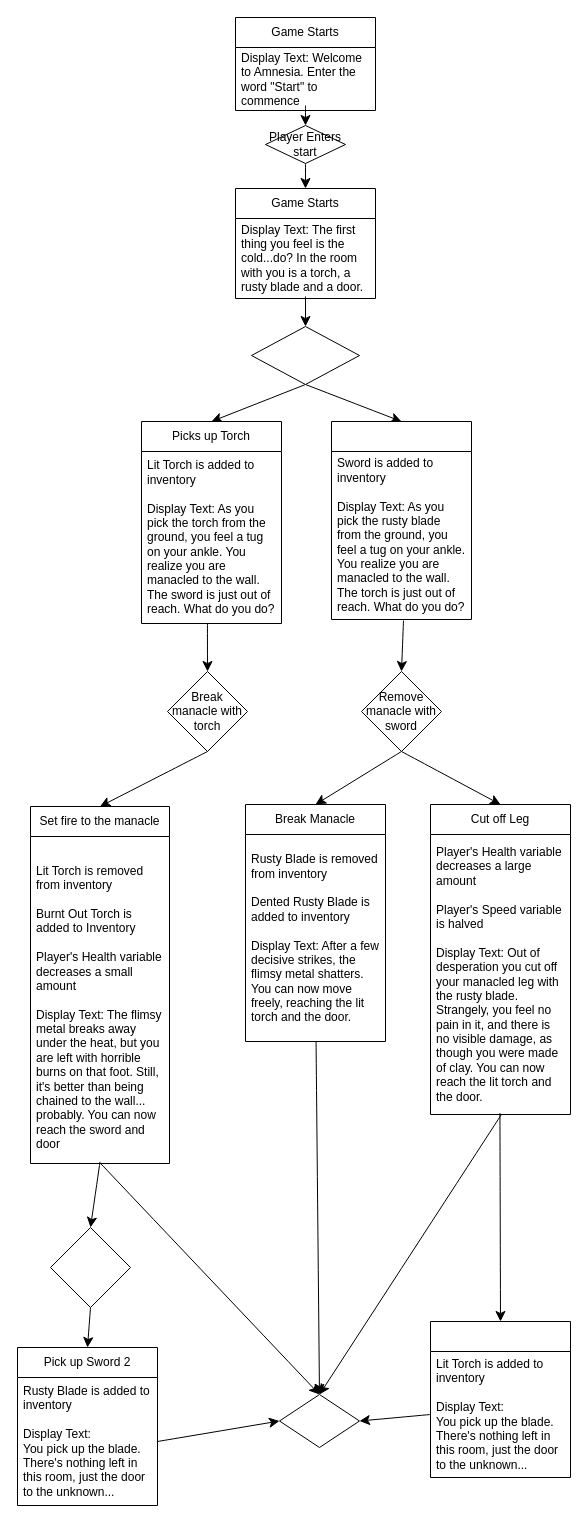
The diagram is 588 pixels wide and 1523 high, and some of its shapes have lost their labels. The shapes that lost their labels are listed below. From the top down, each one's box as (x1, y1, x2, y2) in pixels, then its label:
(250, 326, 360, 384): Player Tries to pick something up
(330, 420, 472, 620): Picks up Rusty Blade
(50, 1226, 130, 1308): Pick up sword
(430, 1320, 570, 1478): Pick up Torch 2
(278, 1394, 360, 1448): Go to door
